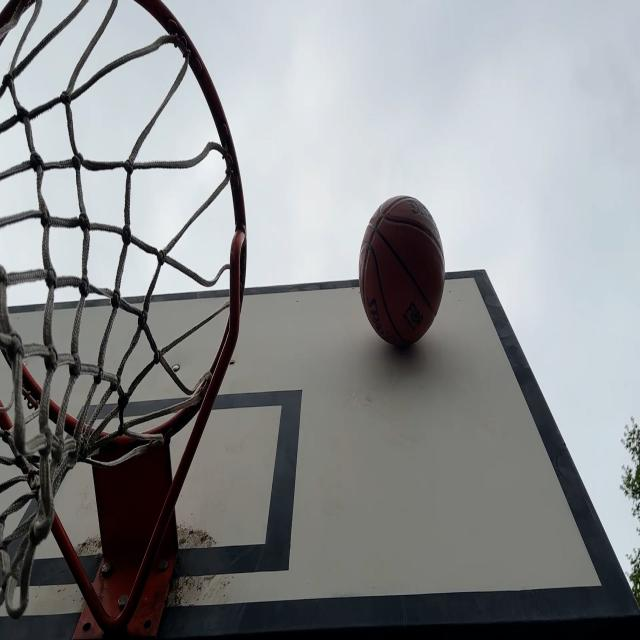rebound_hit: (358, 194, 444, 355)
